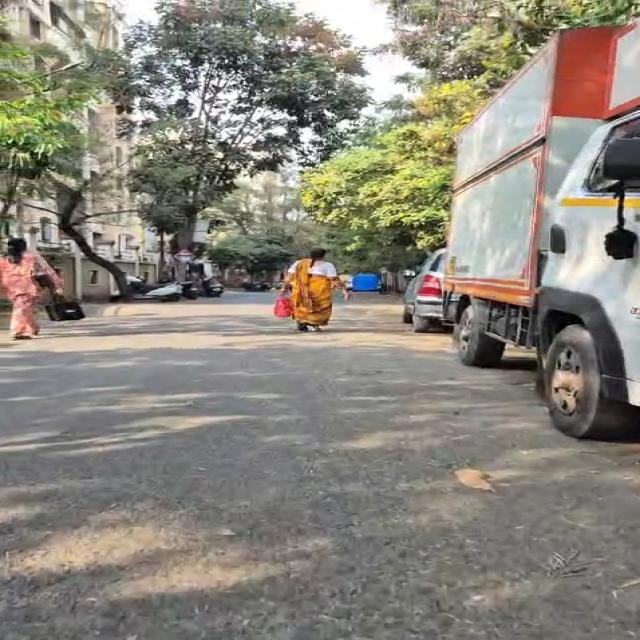obstacle: (0, 238, 62, 339), (282, 248, 348, 331)
vehicle: (404, 249, 451, 332), (128, 276, 183, 301), (201, 277, 224, 297), (180, 281, 199, 300), (242, 281, 271, 292)
